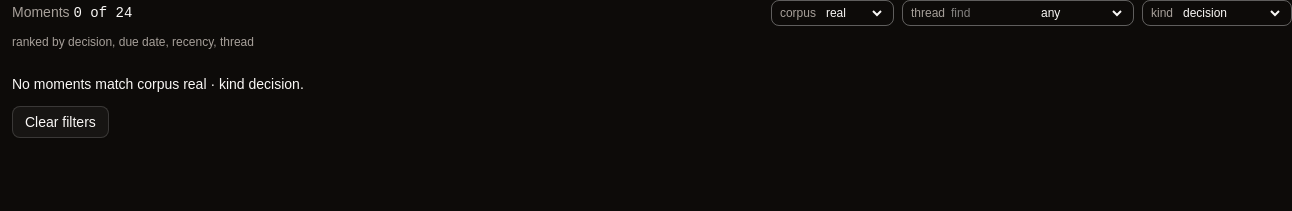
Scenario: MomentsFeed › names the active filters when nothing matches, and clears them
Expected: the element with test id "moments-empty" shows "No moments match corpus real · kind decision.", [12, 76, 304, 92]
Expected: the text with test id "moments-count" reads "0 of 24", [74, 5, 132, 21]
Click the button "Clear filters": (60, 122) [12, 106, 109, 138]
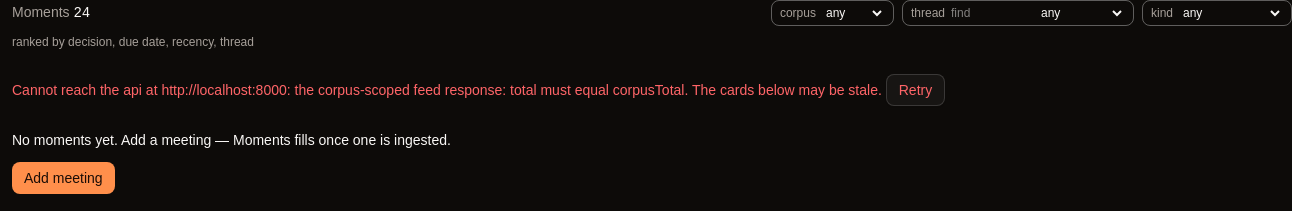
Now the element with test id "moments-empty" shows "No moments yet. Add a meeting — Moments fills once one is ingested.", box [12, 132, 451, 148]
